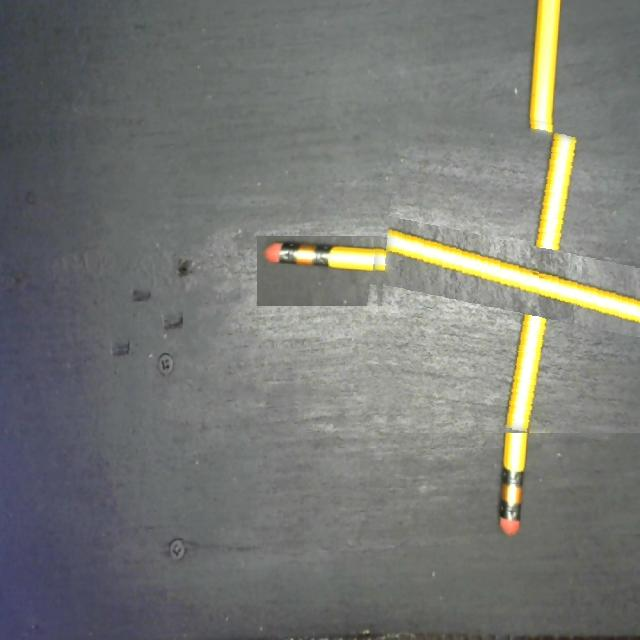biodegradable: (363, 108, 640, 433)
